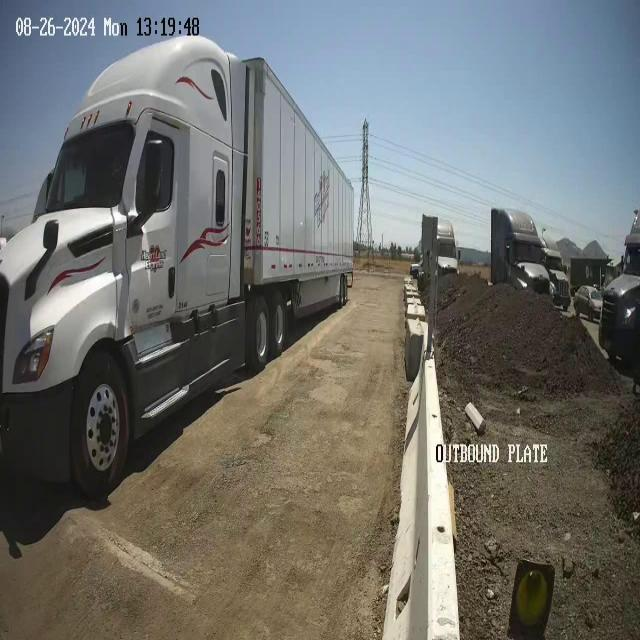TRUCK_CONTAINER: (1, 33, 355, 500)
